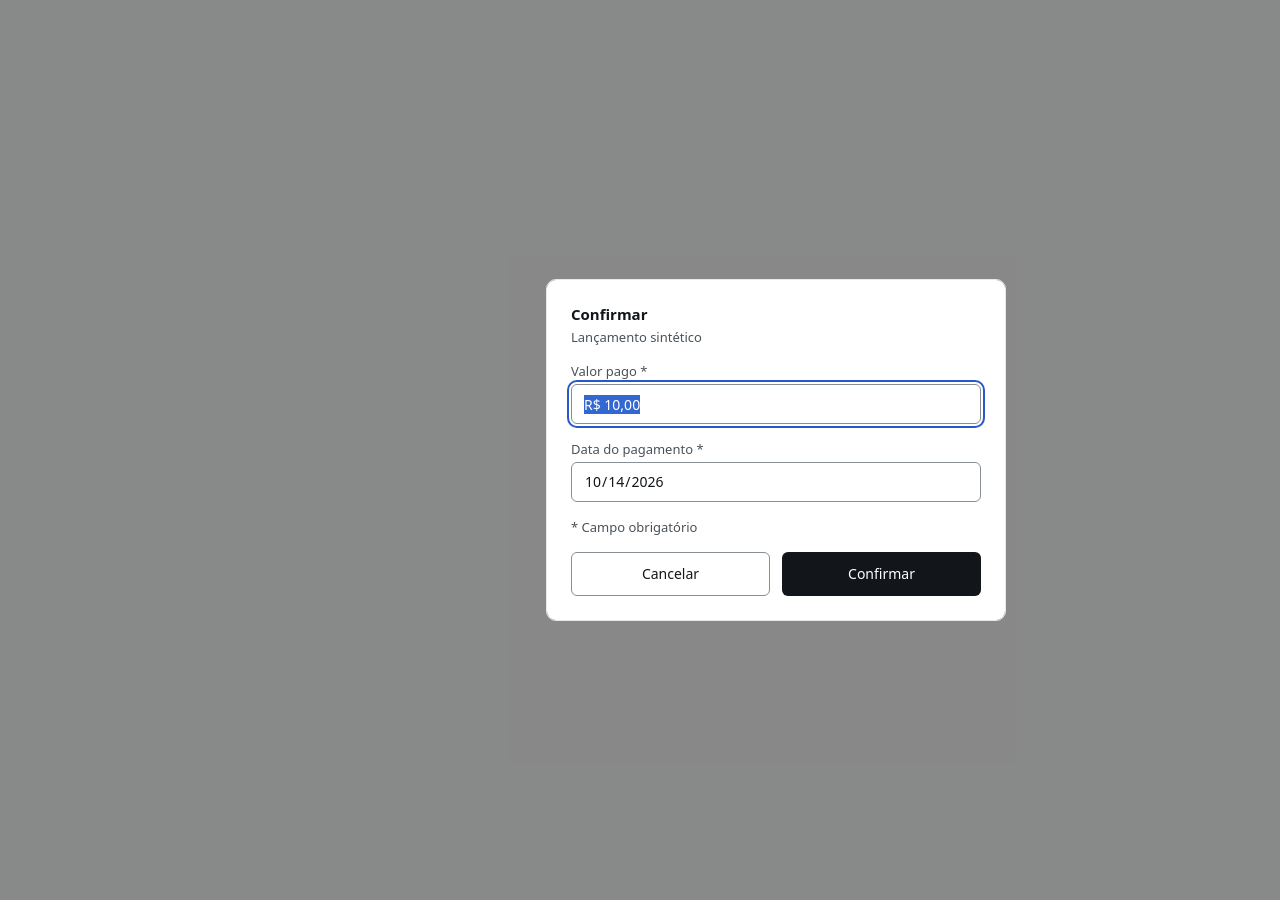
diálogos de "Confirmar" — mostram o motivo da recusa (medido em 2026-10-09) › 2026-10-09 — lançamento: mostra a frase do servidor, não "Tente novamente"
Click the button "Confirmar". click: (882, 574)
box: top-left (782, 552), bottom-right (981, 596)
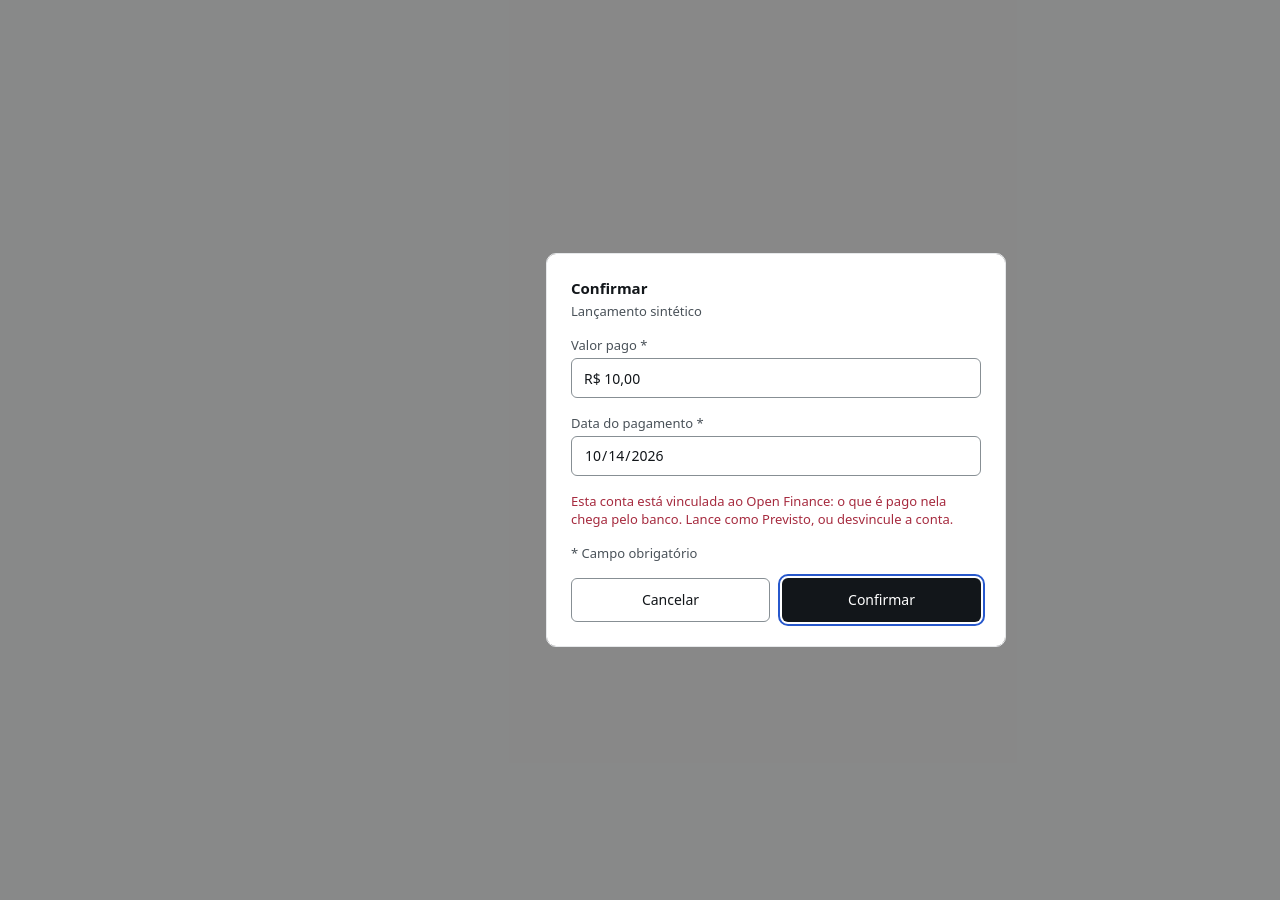
Result: the text "Esta conta está vinculada ao Open Finance: o que é pago nela chega pelo banco. Lance como Previsto, ou desvincule a cont" is shown at top-left (571, 492), bottom-right (953, 528)
